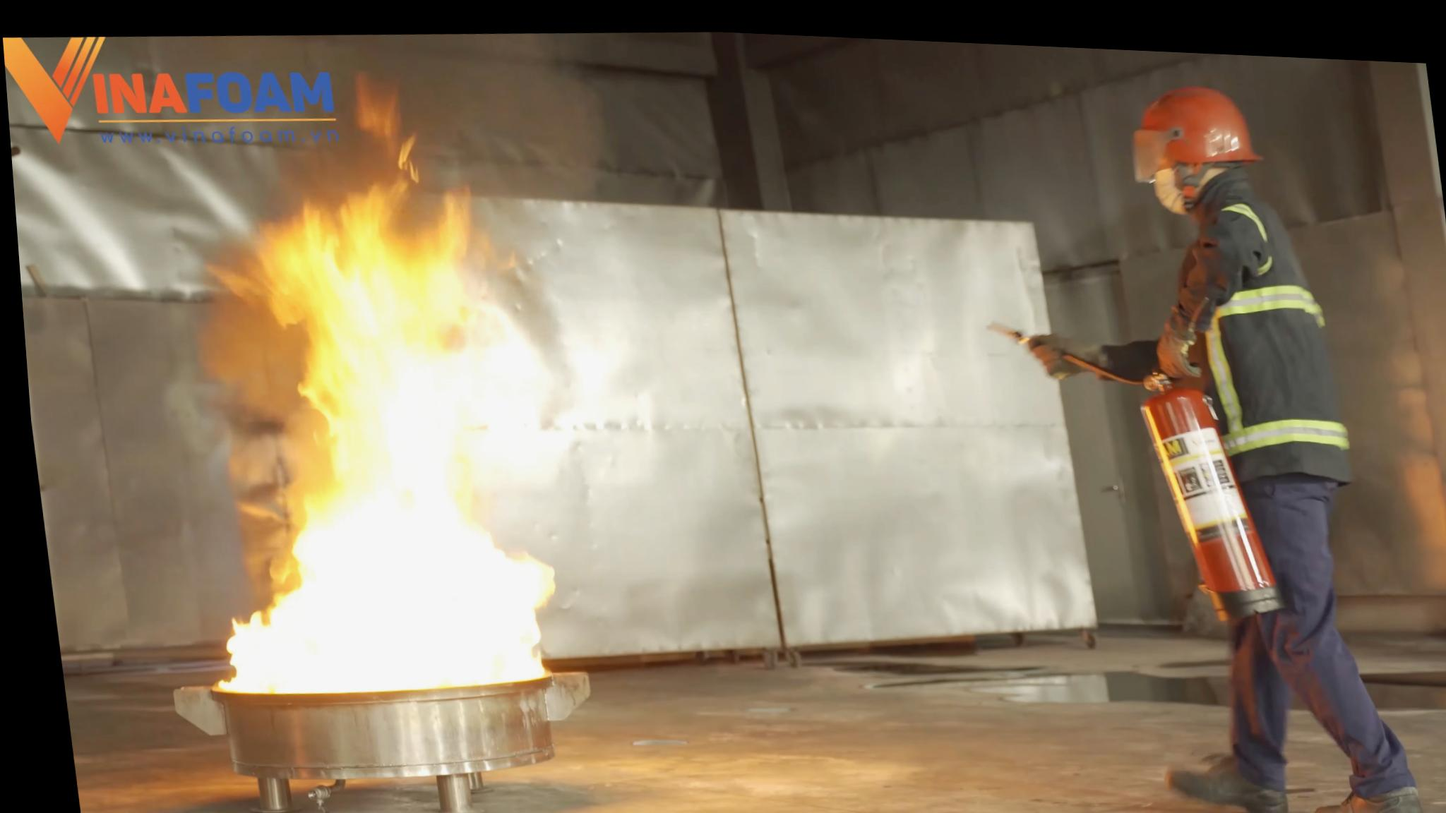FireExtinguisher: (1119, 345, 1278, 629)
